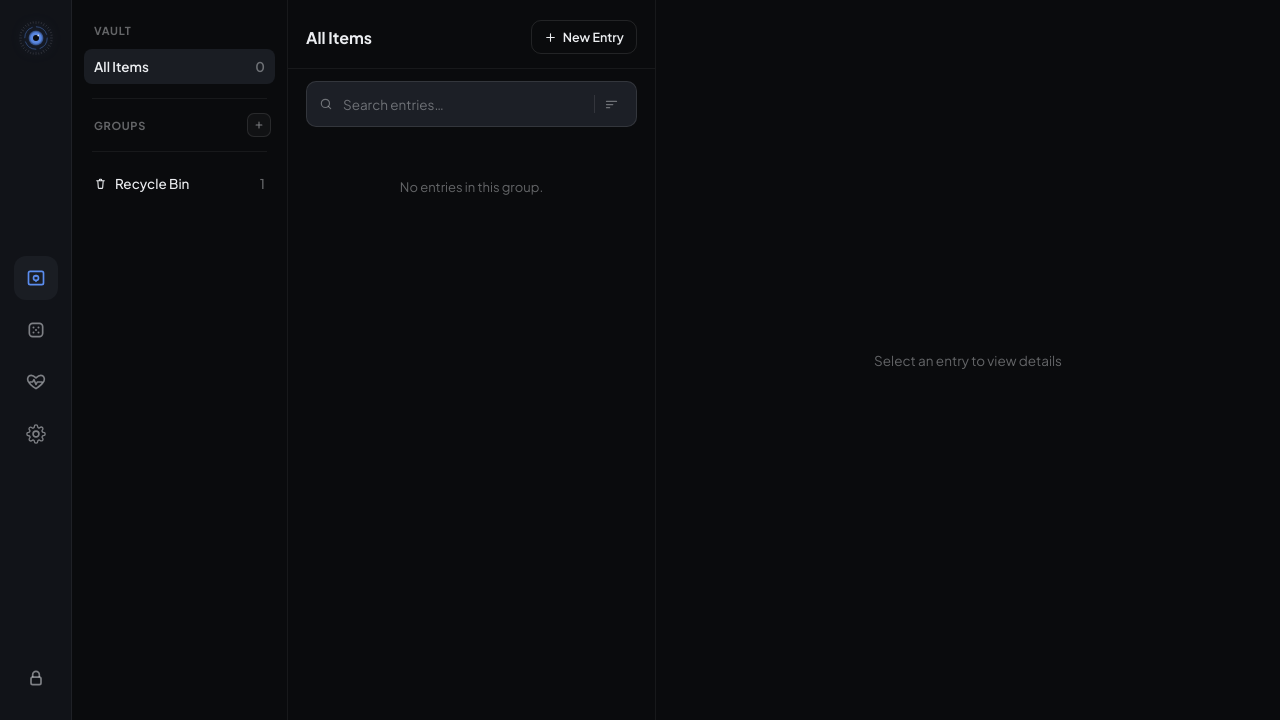
Test case: VaultShell keyboard shortcuts › anywhere in the vault › leaves the recycle bin to start a new entry, as the bin has nowhere to show the form
The image size is (1280, 720).
Click the text "Recycle Bin" at (142, 184), box x1=94 y1=175 x2=190 y2=192
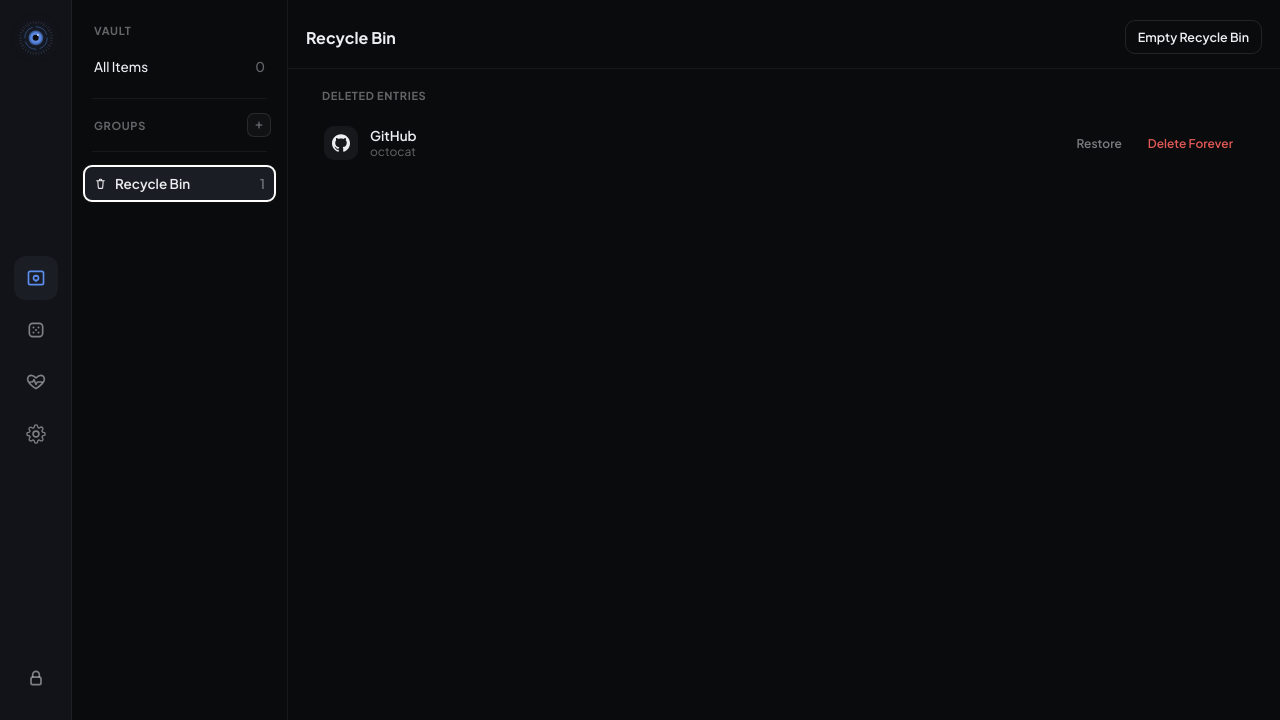
Type keys "{Control>}n{/Control}"
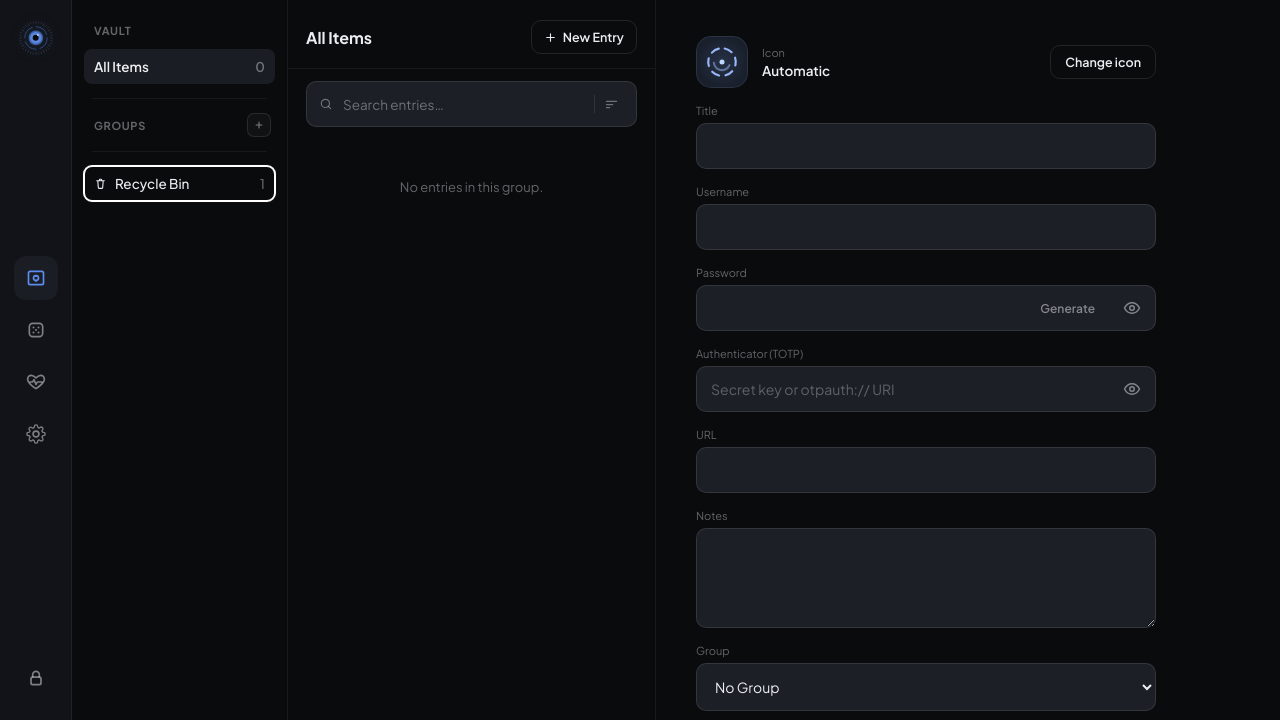
Expected: the heading "All Items" is shown, x1=306 y1=26 x2=372 y2=48
Expected: the field labelled "Title" is shown, x1=696 y1=123 x2=1156 y2=169
